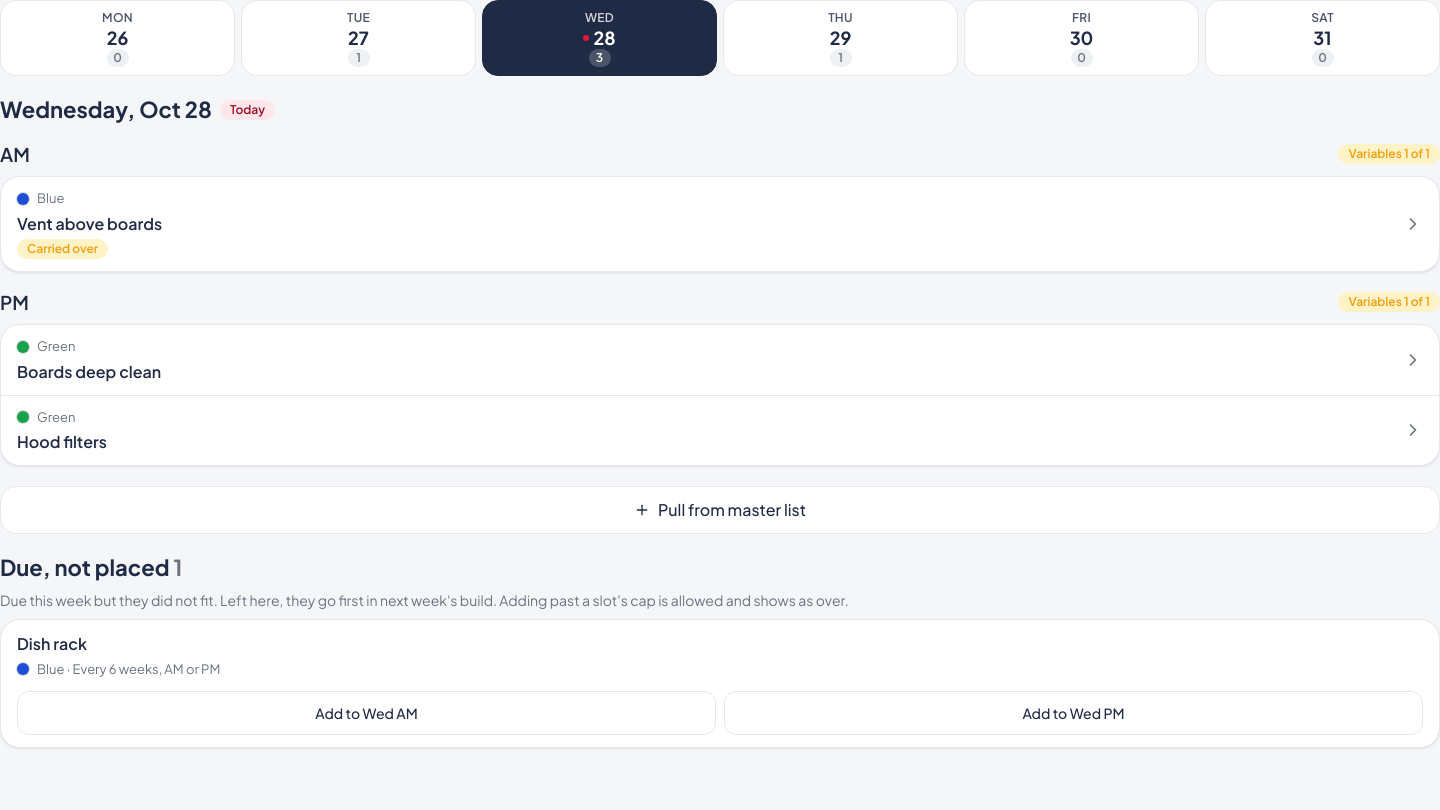
it: pull from master list › flags items that are already on the week's board
What coordinates should you click on to do the following:
click the button "Pull from master list"
I would click on:
 (720, 510)
Its box is [0,486,1439,534].
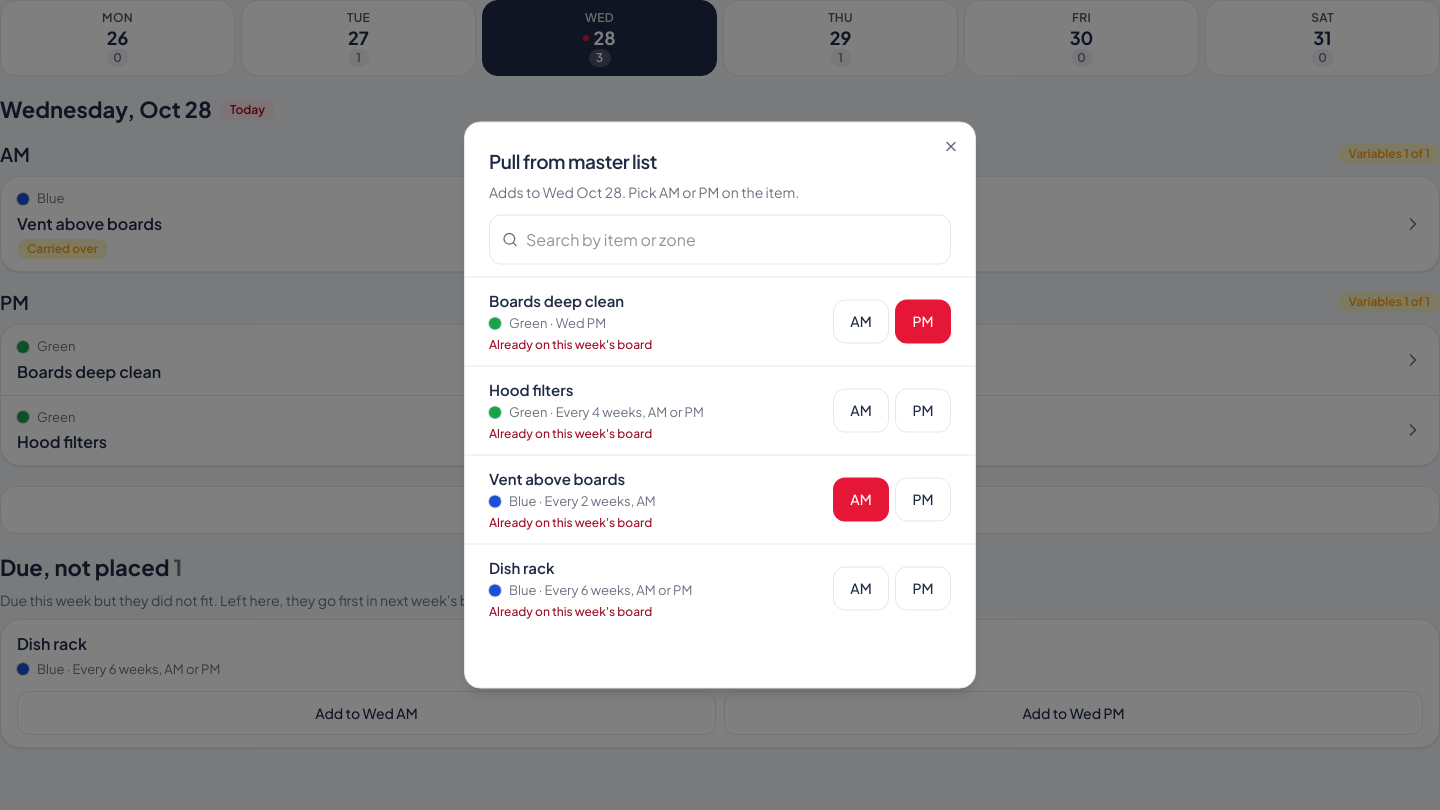
Check: the 1st text "Already on this week's board" is shown, box [489,336,652,351]
